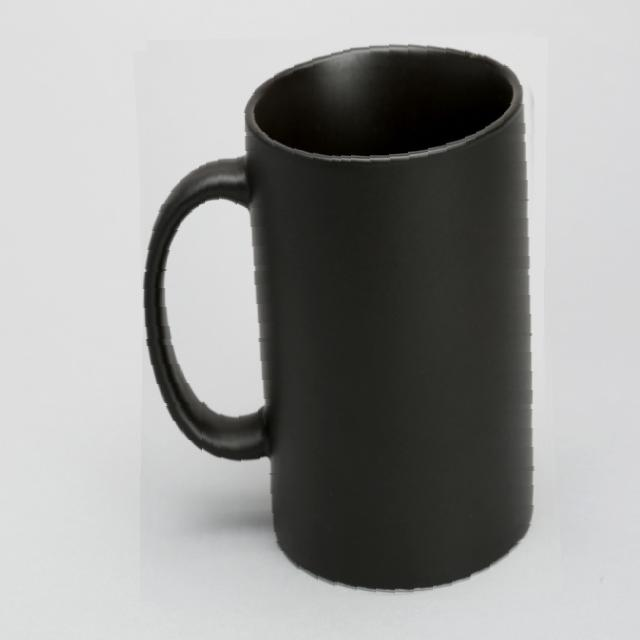recyclable: (140, 35, 555, 607)
